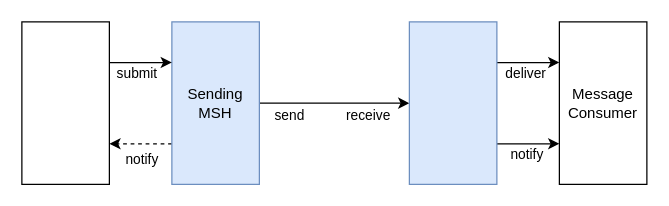
This 669x206 diagram has some shape labels left out. Each missing label, with the centre of its shape:
Message Producer: point (65, 102)
Receiving MSH: point (452, 102)
